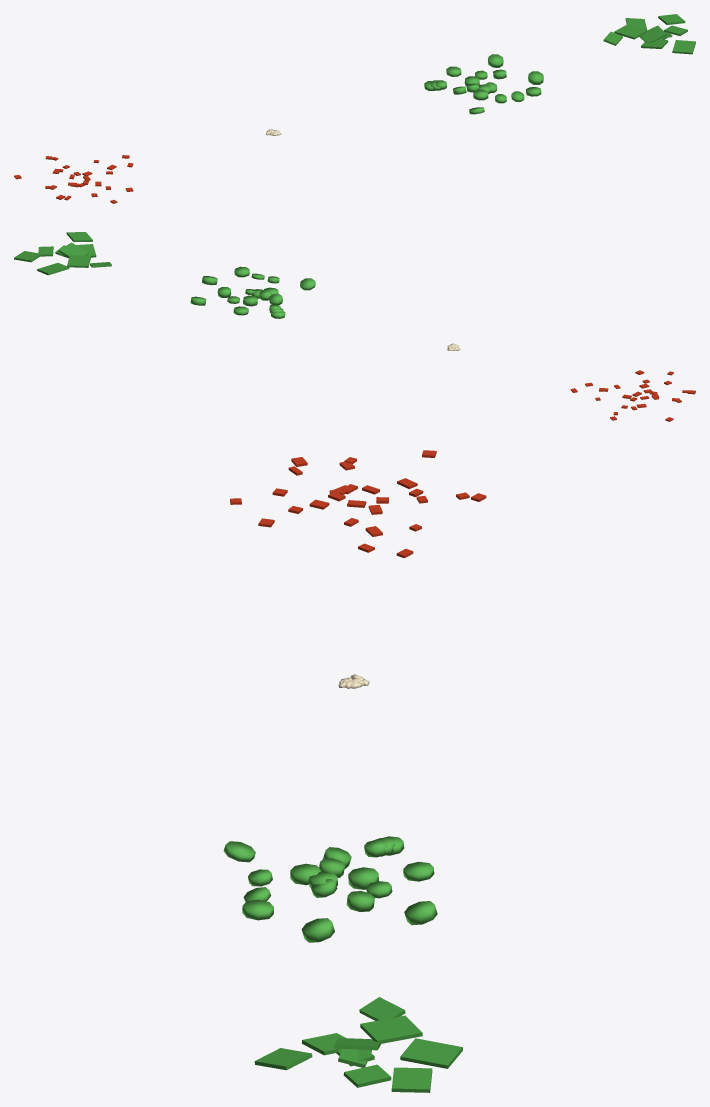
The model's file is Phase5_Toppings.glb.
3 views of the same model, one above another, from view 1: azimuth 30°, elevation 25°; view 2: azimuth 150°, elevation 25°; view 3: azimuth 270°, elevation 25° (orthographic). The views are drawn at different scales.
Visible parts, largest first — view 1: Topping_GreenOnion, Topping_Cilantro, Topping_ChiliFlake; view 2: Topping_GreenOnion, Topping_Cilantro, Topping_ChiliFlake; view 3: Topping_GreenOnion, Topping_Cilantro, Topping_ChiliFlake.
Boxes of the visible parts, x1=… form: Topping_GreenOnion: x1=424, y1=54, x2=543, y2=114; Topping_Cilantro: x1=603, y1=14, x2=695, y2=54; Topping_ChiliFlake: x1=14, y1=155, x2=133, y2=203; Topping_GreenOnion: x1=190, y1=266, x2=315, y2=318; Topping_Cilantro: x1=14, y1=232, x2=111, y2=275; Topping_ChiliFlake: x1=570, y1=370, x2=695, y2=421; Topping_GreenOnion: x1=223, y1=836, x2=437, y2=942; Topping_Cilantro: x1=254, y1=997, x2=462, y2=1092; Topping_ChiliFlake: x1=230, y1=450, x2=486, y2=558.
Bounding box in the file's own units: 0.4604 × 0.00852 × 0.0796.
